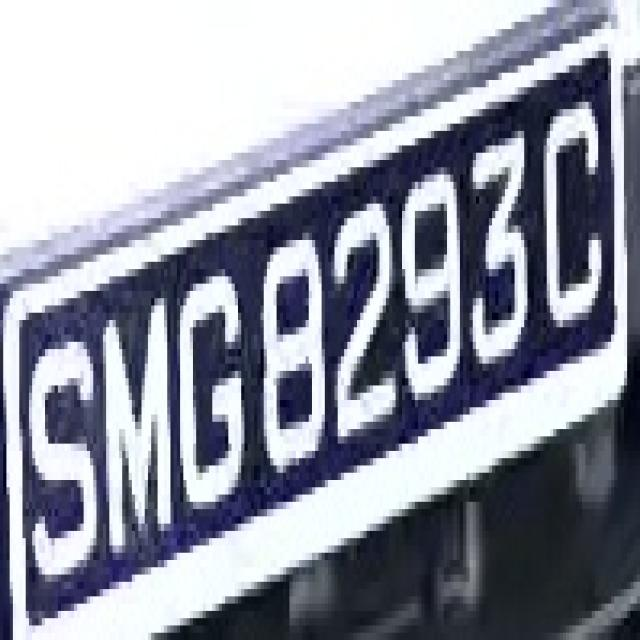2: (325, 182, 402, 458)
3: (470, 116, 540, 400)
8: (258, 218, 332, 502)
9: (389, 152, 466, 444)
C: (534, 95, 608, 356)
G: (183, 248, 251, 546)
M: (96, 276, 184, 574)
S: (16, 306, 103, 589)
